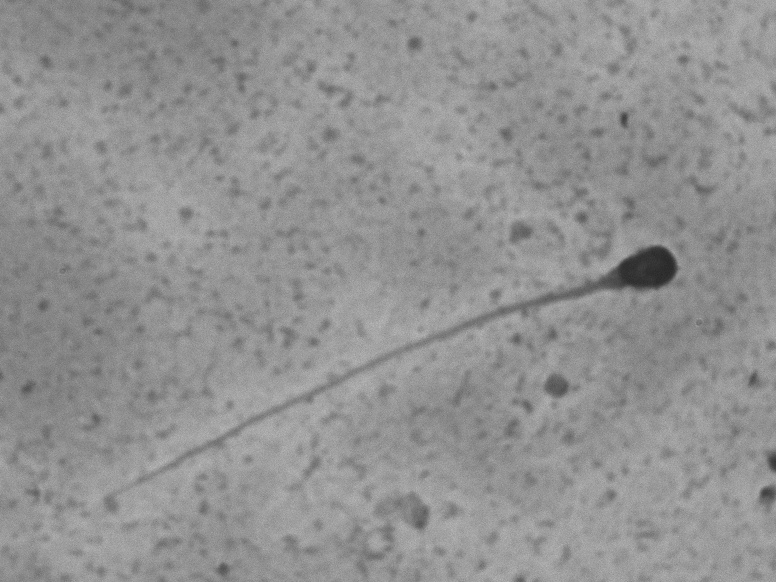Abnormal: (80, 233, 700, 523)
